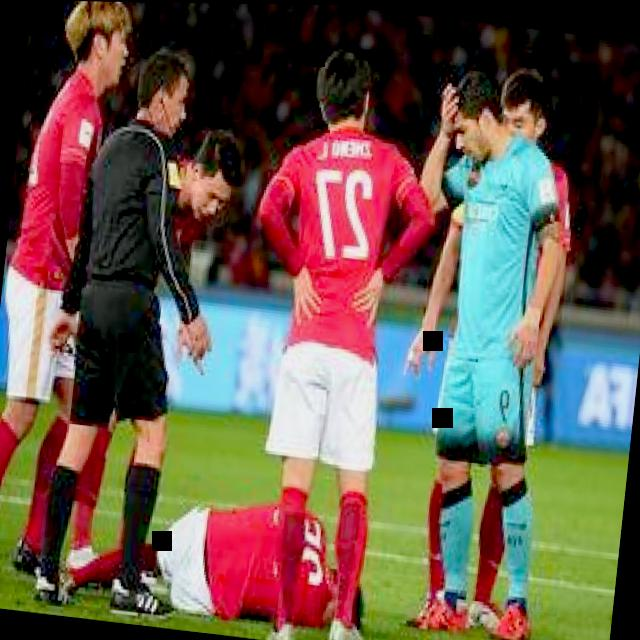Fall-Detected: (62, 454, 384, 640)
